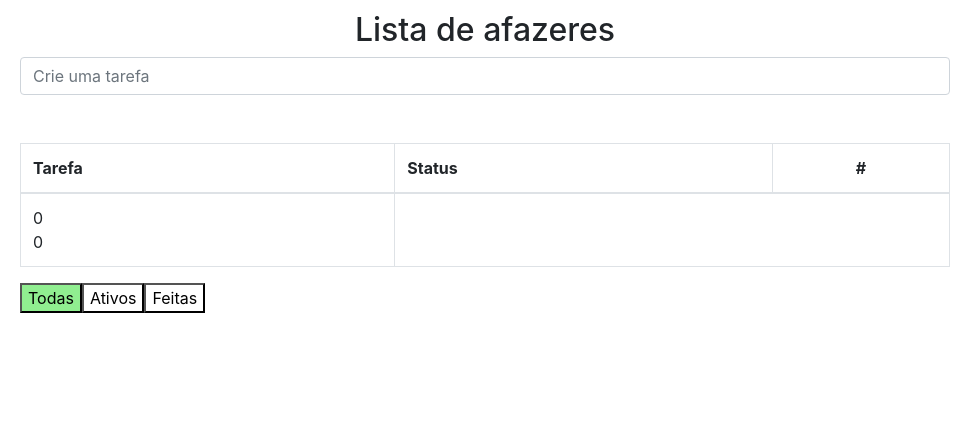
Test: Teste de to-do-list UI › Should add a two tasks
In the field with test id "input-task": (485, 76) top-left (20, 57), bottom-right (950, 95), type "Nova Tarefa"
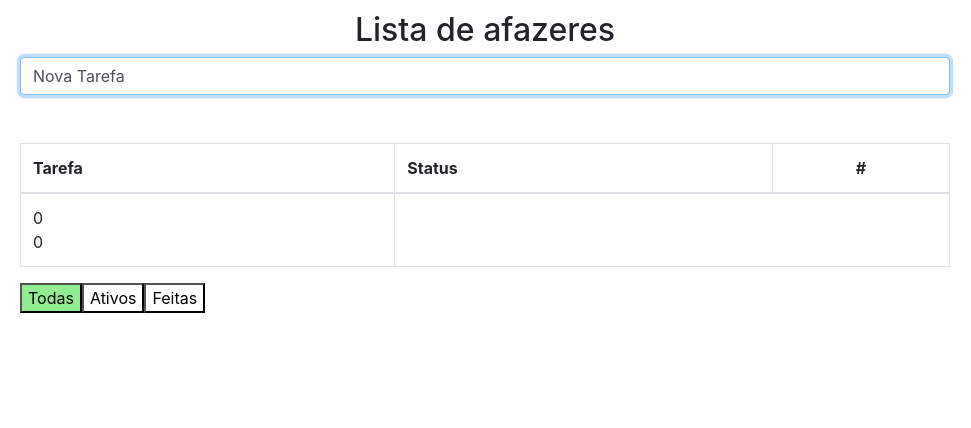
Press Enter in the field with test id "input-task", box top-left (20, 57), bottom-right (950, 95)
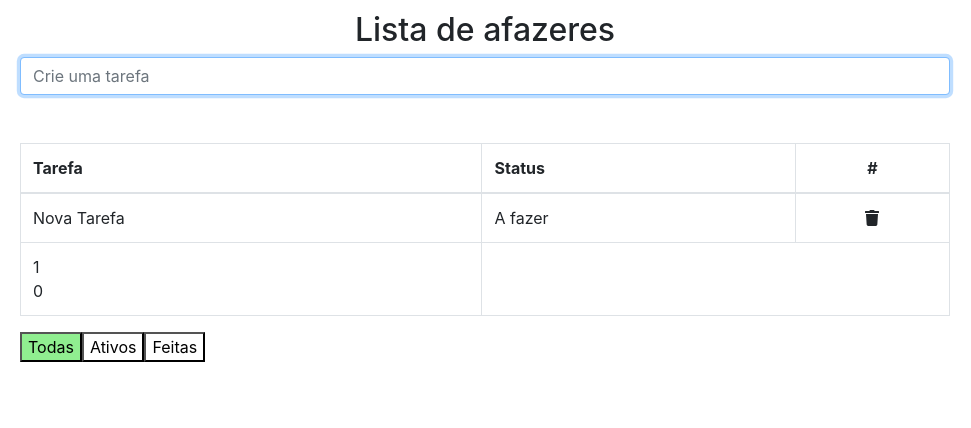
In the field with test id "input-task": (485, 76) top-left (20, 57), bottom-right (950, 95), type "Outra Tarefa"
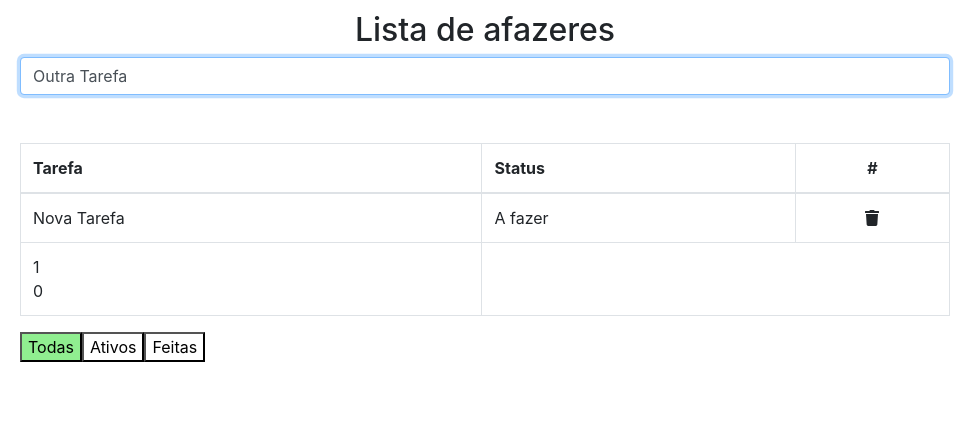
Press Enter in the field with test id "input-task", box top-left (20, 57), bottom-right (950, 95)
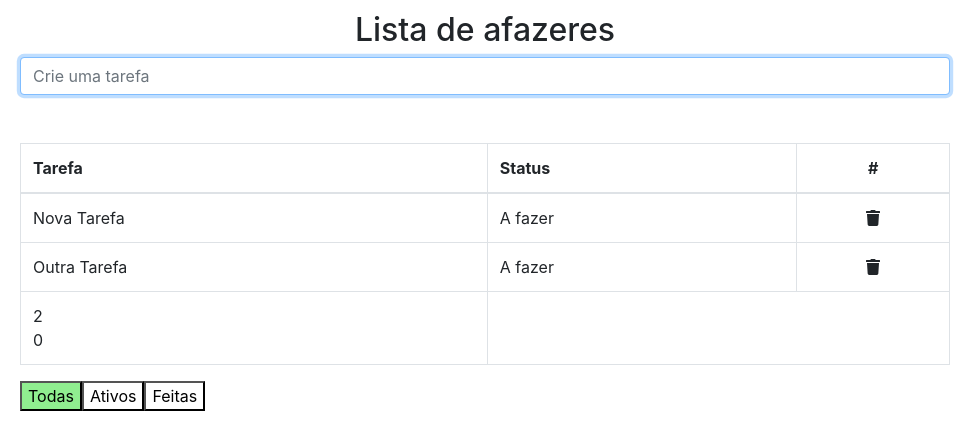
Check: the number of elements with test id "tasks-row" is 2, box top-left (33, 208), bottom-right (125, 228); top-left (33, 257), bottom-right (127, 277)
Check: the text "Nova Tarefa" is shown once, box top-left (33, 208), bottom-right (125, 228)
Check: the text "Outra Tarefa" is shown once, box top-left (33, 257), bottom-right (127, 277)
